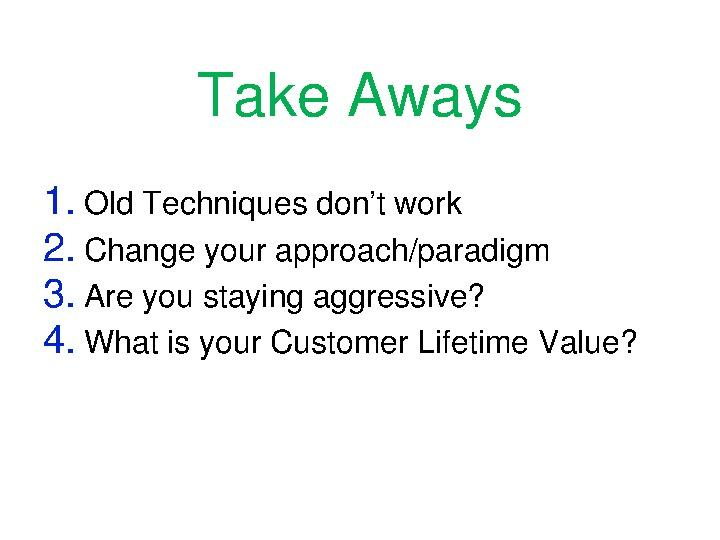paragraph: (25, 178, 702, 379)
title: (191, 60, 533, 143)
